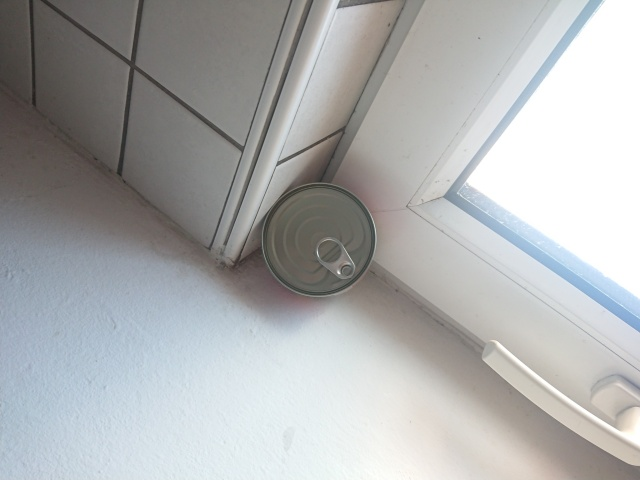Giana Tuna Salad Mexico 185g: (259, 180, 380, 300)
